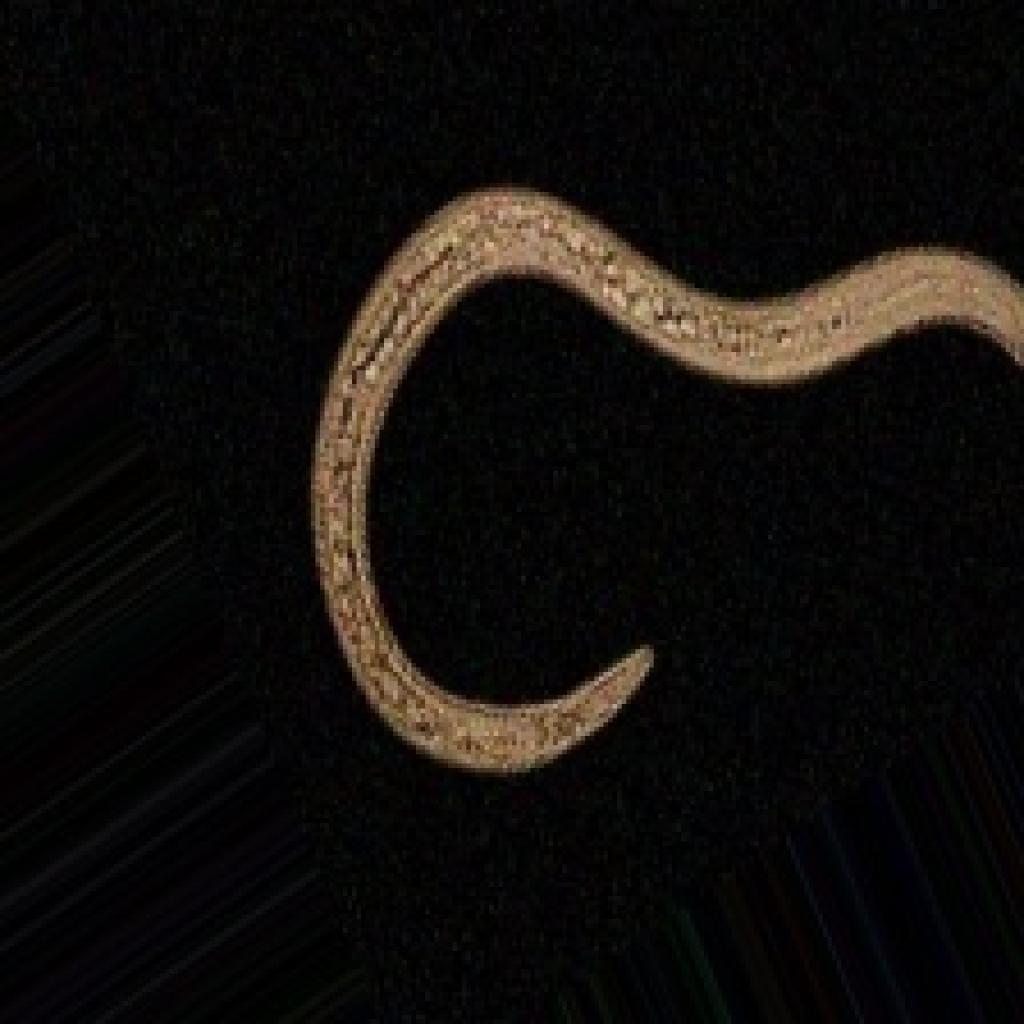Nematode: (302, 174, 1019, 1019)
